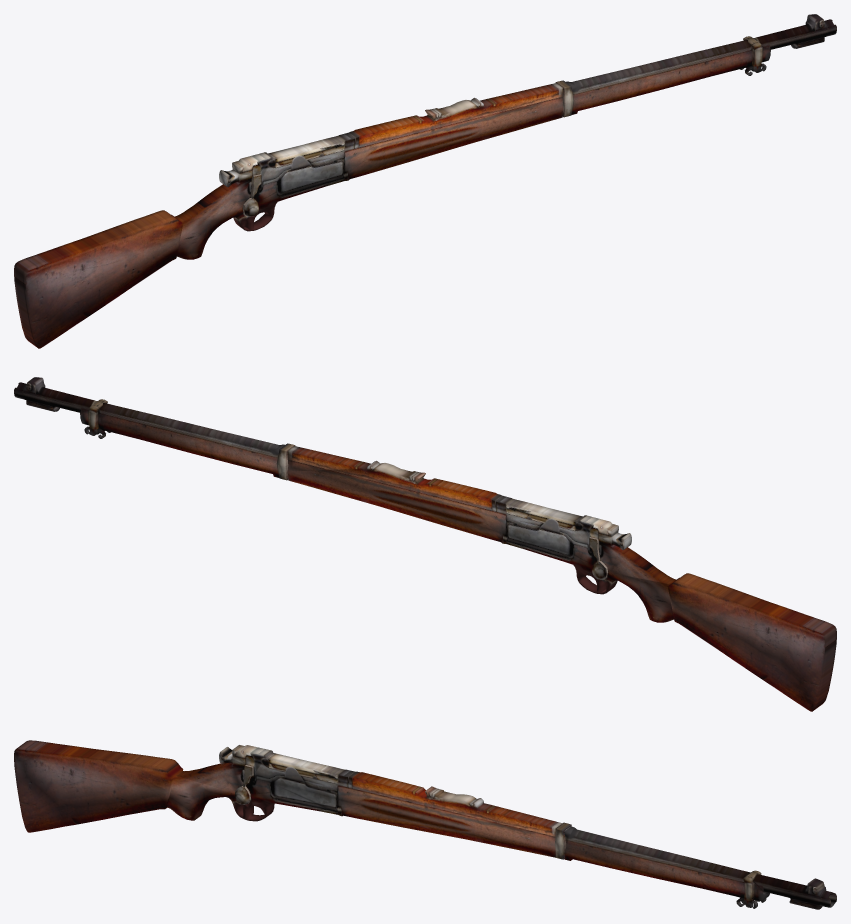
The model's file is krag.fbx.
3 views of the same model, one above another, from view 1: azimuth 30°, elevation 25°; view 2: azimuth 150°, elevation 25°; view 3: azimuth 330°, elevation 25° (orthographic).
Visible parts, largest first — view 1: BezierCurve.002; view 2: BezierCurve.002; view 3: BezierCurve.002.
Boxes of the visible parts, bbox=[...] form: BezierCurve.002: bbox=[14, 14, 836, 348]; BezierCurve.002: bbox=[14, 377, 836, 711]; BezierCurve.002: bbox=[14, 740, 836, 909].
Size of the model in its own units: 491 by 79.21 by 13.04.
Materials: 1 (1 with a texture image).
